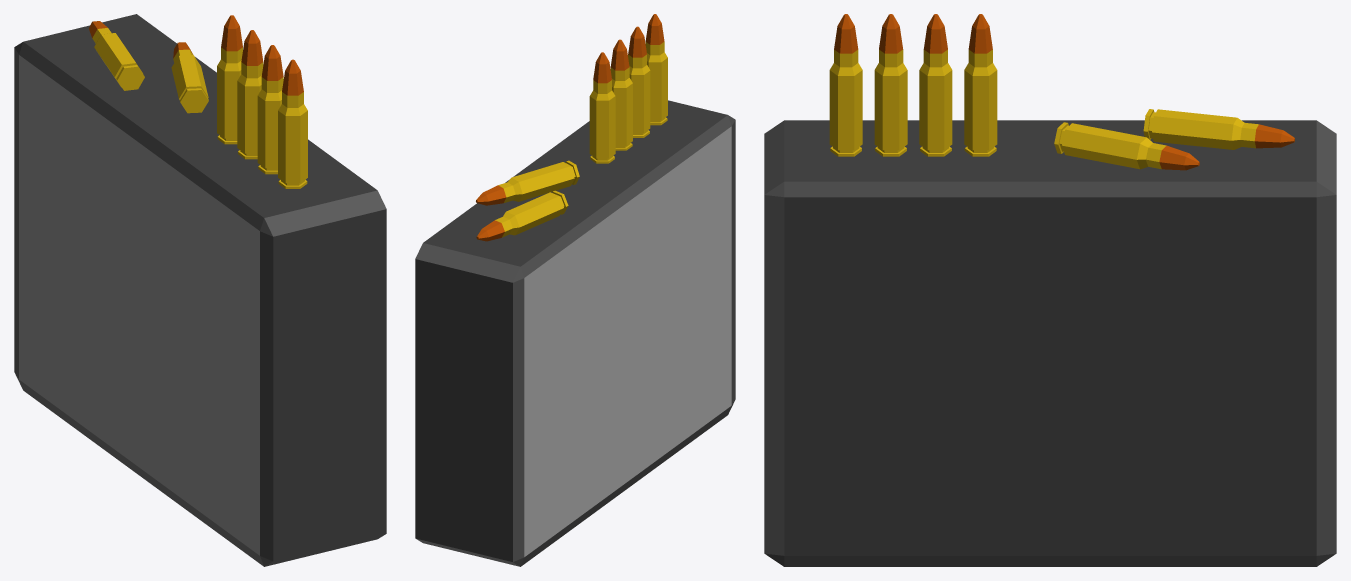
The model's file is Assault Rifle Ammo Box.glb.
3 renders of one model, left to right at view 1: azimuth 30°, elevation 25°; view 2: azimuth 150°, elevation 25°; view 3: azimuth 270°, elevation 25°, orthographic. The views are drawn at different scales.
Visible parts, largest first — view 1: AssaultRifleAmmo_Box_Cube; view 2: AssaultRifleAmmo_Box_Cube; view 3: AssaultRifleAmmo_Box_Cube.
Part boxes in pixels (x1=…): AssaultRifleAmmo_Box_Cube: x1=14, y1=14, x2=386, y2=566; AssaultRifleAmmo_Box_Cube: x1=415, y1=14, x2=735, y2=566; AssaultRifleAmmo_Box_Cube: x1=764, y1=14, x2=1336, y2=566.
Size of the model in its own units: 0.6278 by 2.32 by 2.31.
